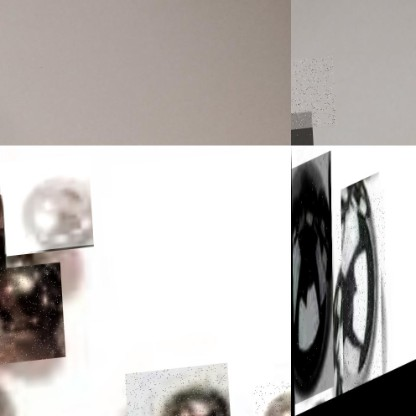ironball: (291, 154, 332, 404), (335, 197, 385, 399), (0, 265, 62, 367), (22, 173, 96, 256), (153, 381, 229, 416)
